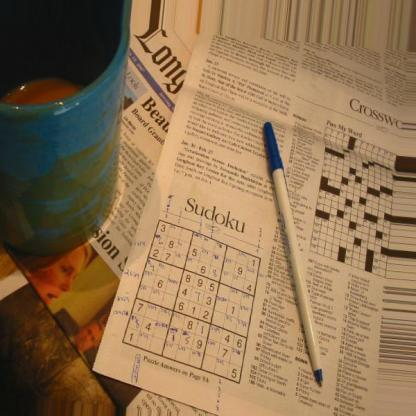sudoku: (118, 213, 263, 390)
